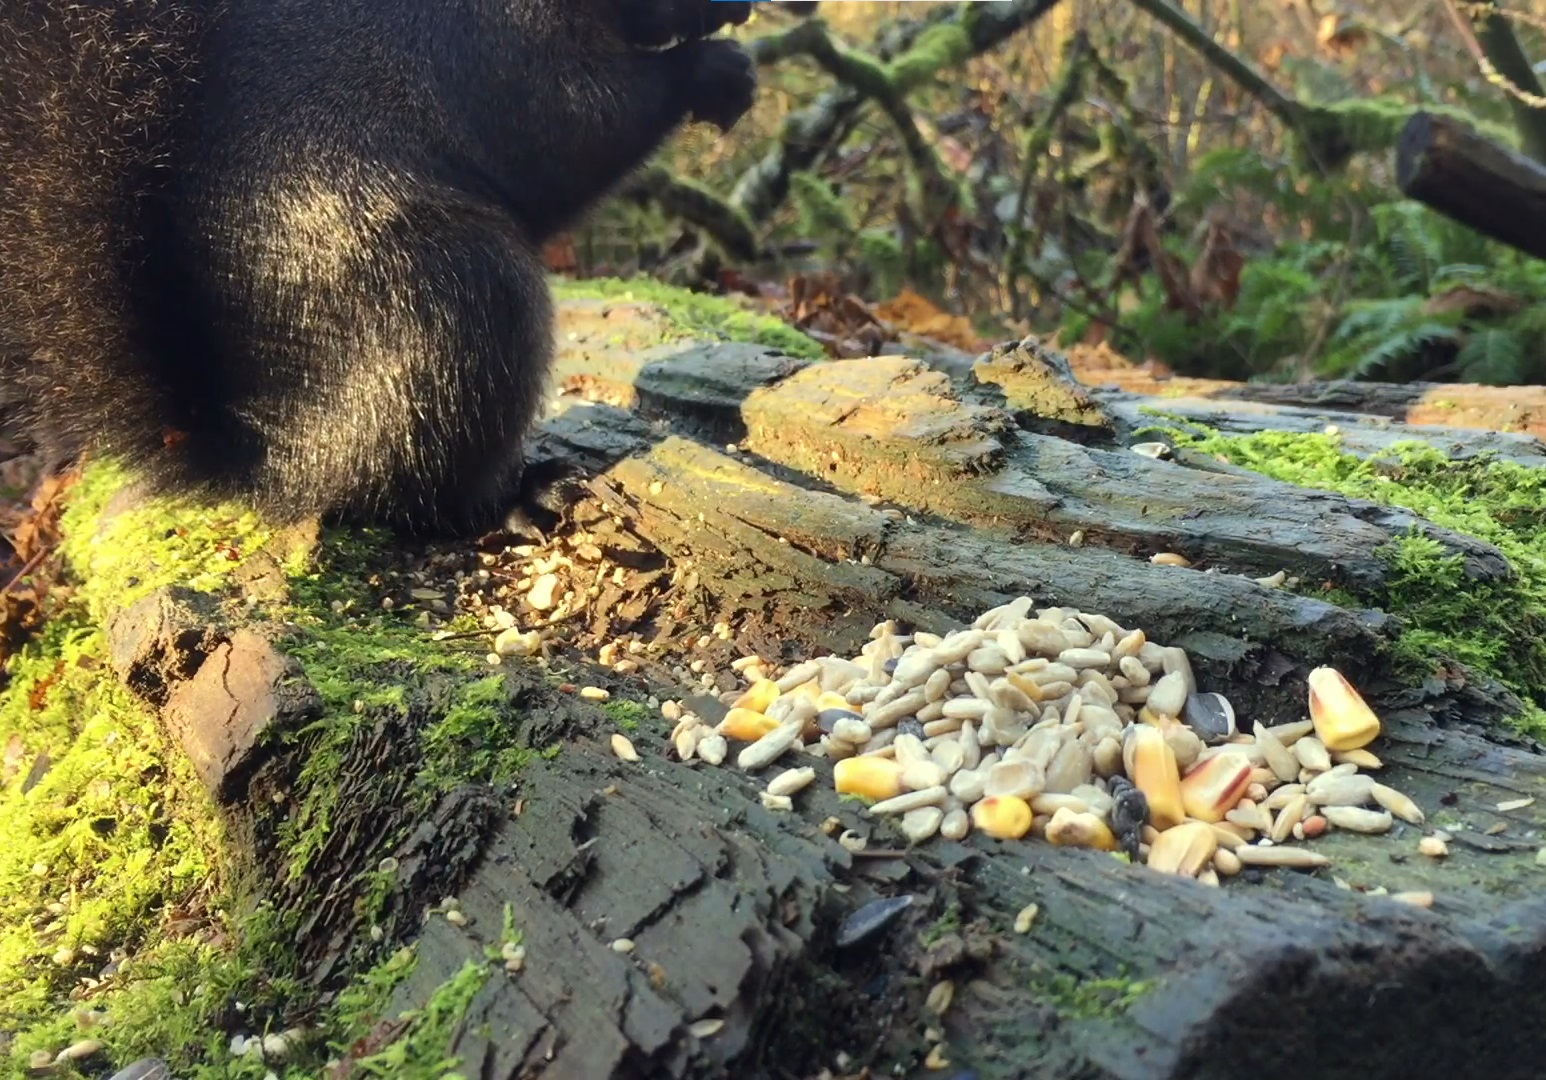seed: (675, 592, 1426, 935)
